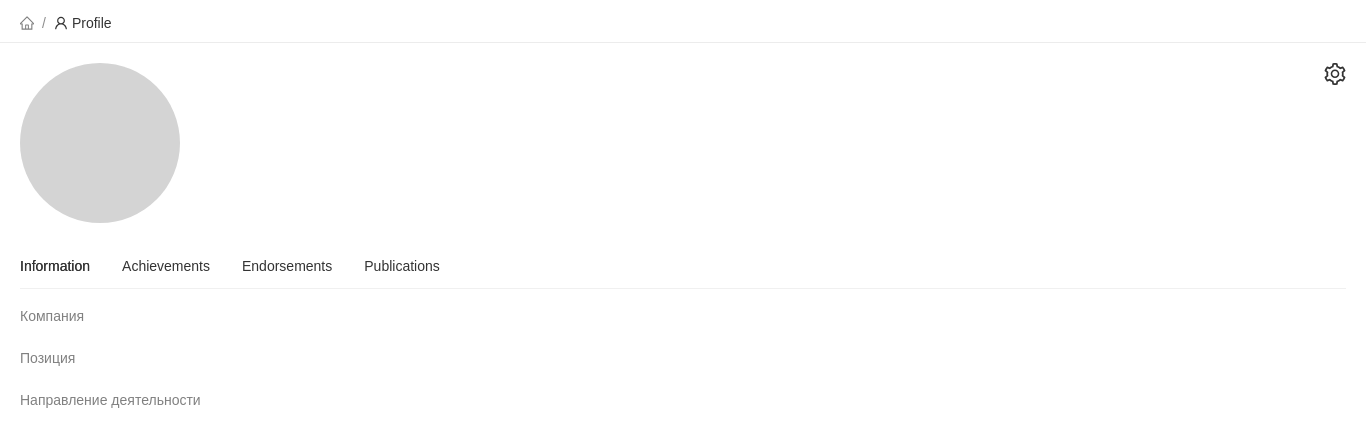
it: Profile › edits about-me section and displays saved changes in profile
The width and height of the screenshot is (1366, 425).
Step 1. Click the link named "settings" → click(1335, 76), box [1324,63,1346,89]
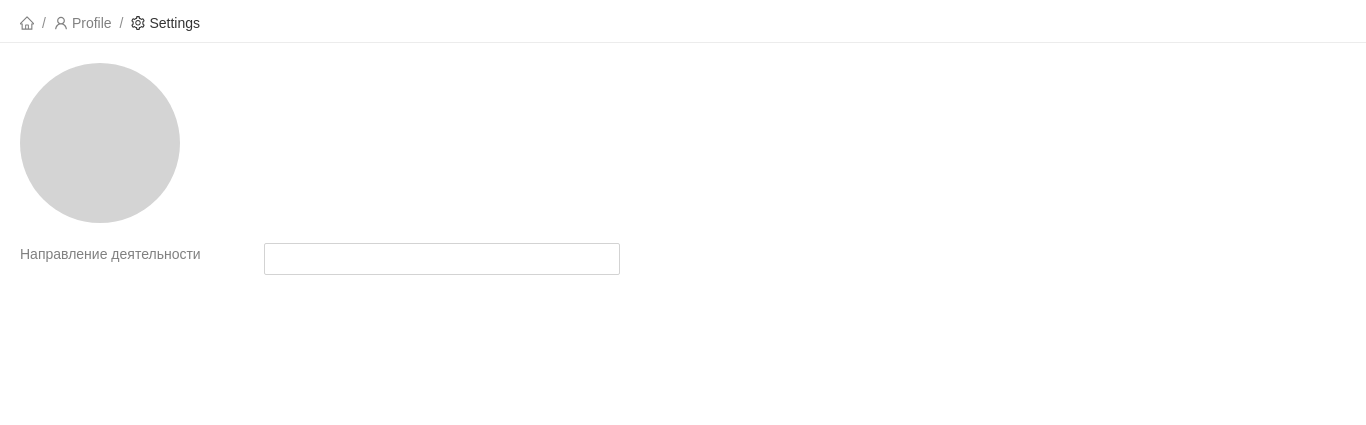
Step 2. Type "Spider-man" into the field labelled "Направление деятельности" → (442, 259), box [264,243,620,275]
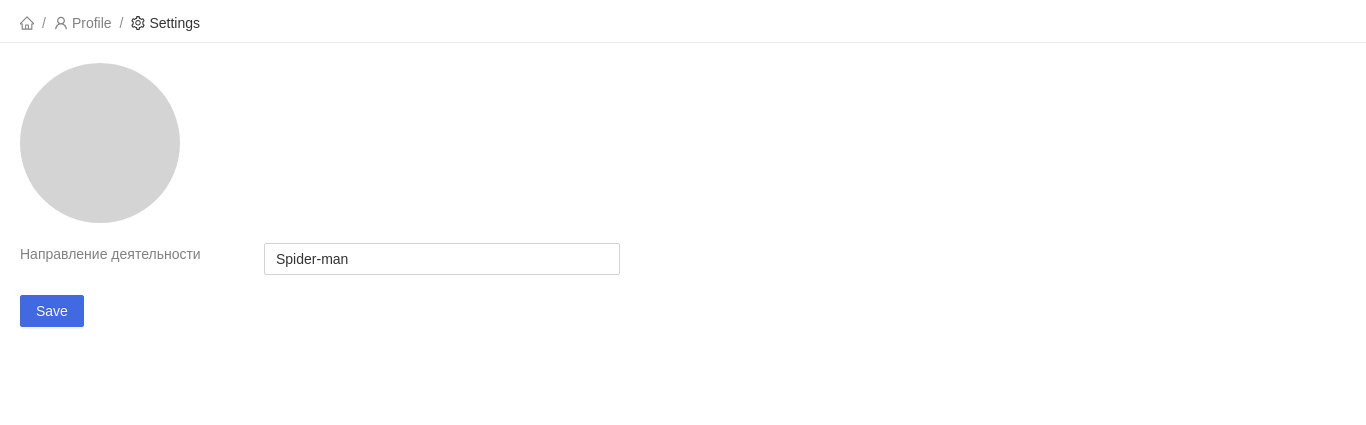
Step 3. Click the button "Save" → click(52, 311), box [20,295,84,327]
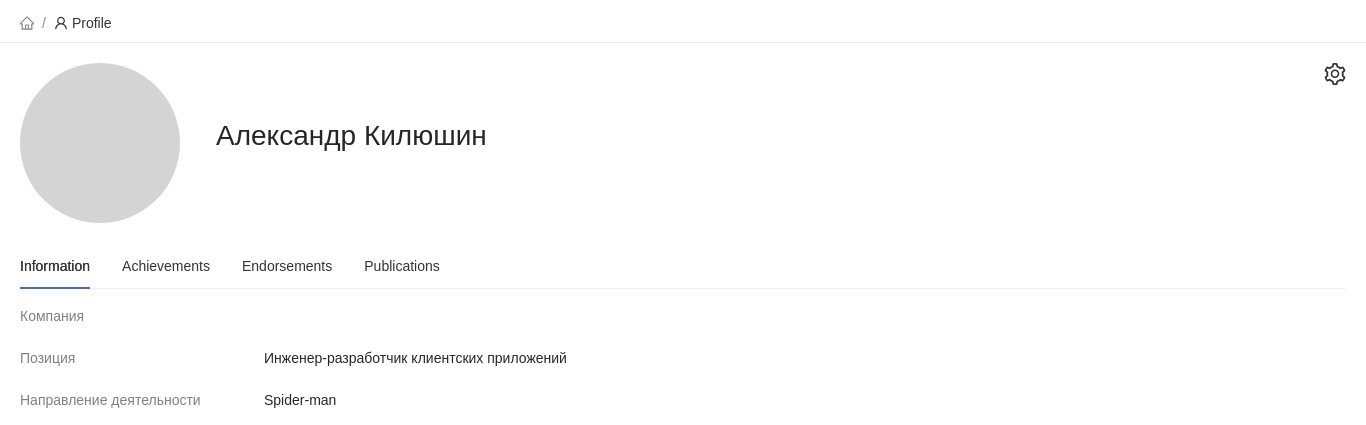
Expected: the text "Spider-man" is shown, [264,392,336,408]
